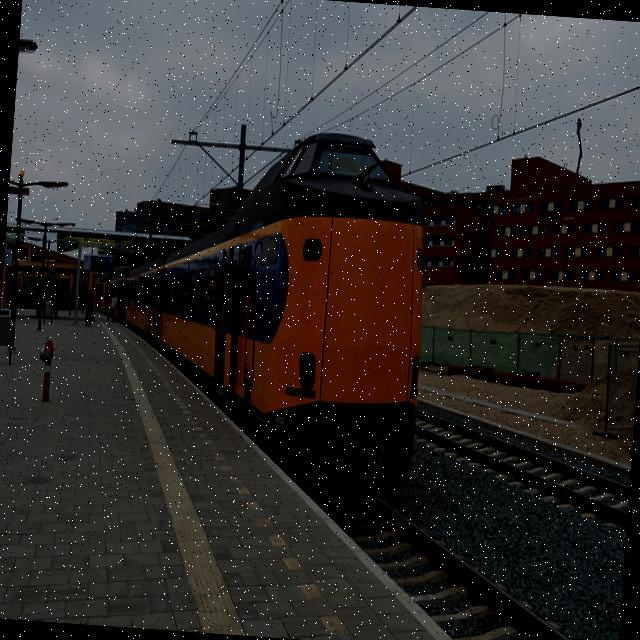fire_hydrant: (36, 336, 54, 401), (66, 301, 70, 315)
